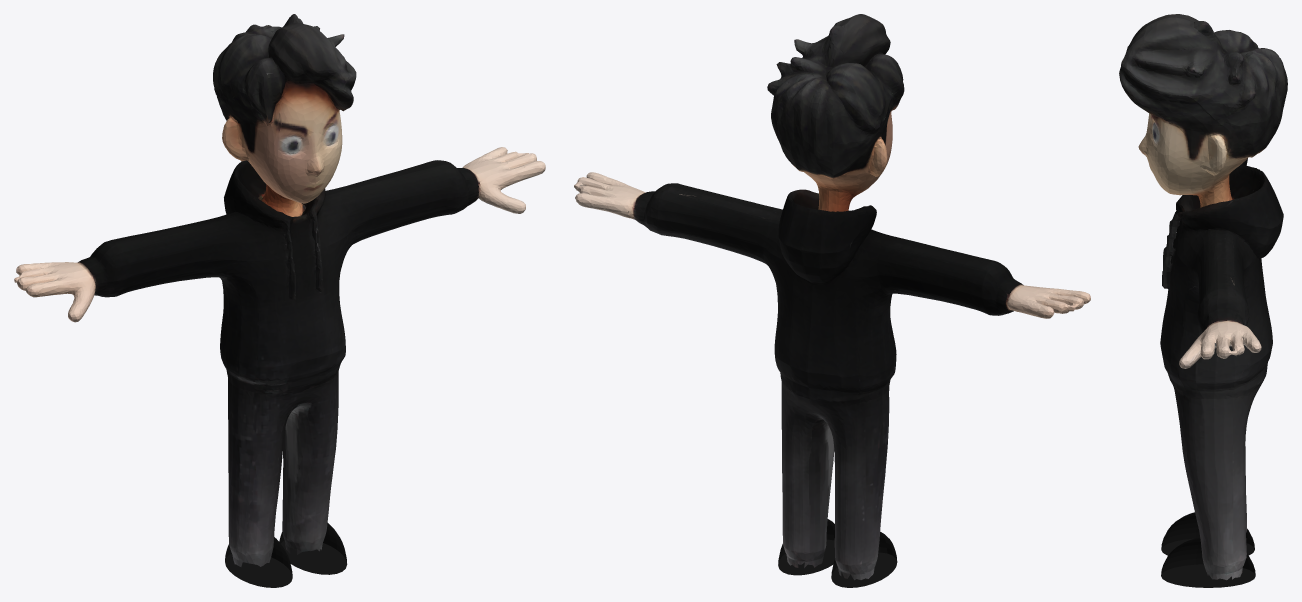
Rendered from character.glb.
3 renders of one model, left to right at view 1: azimuth 30°, elevation 25°; view 2: azimuth 150°, elevation 25°; view 3: azimuth 270°, elevation 25°, orthographic. The views are drawn at different scales.
Parts seen in each view (by area): view 1: world; view 2: world; view 3: world.
Part boxes in pixels (box(x1,y1,x2,y2)): world: box(14, 14, 545, 587); world: box(574, 14, 1090, 587); world: box(1119, 14, 1287, 587).
Size of the model in its own units: 0.7199 by 0.7304 by 0.2047.
1 material, 1 textured.
